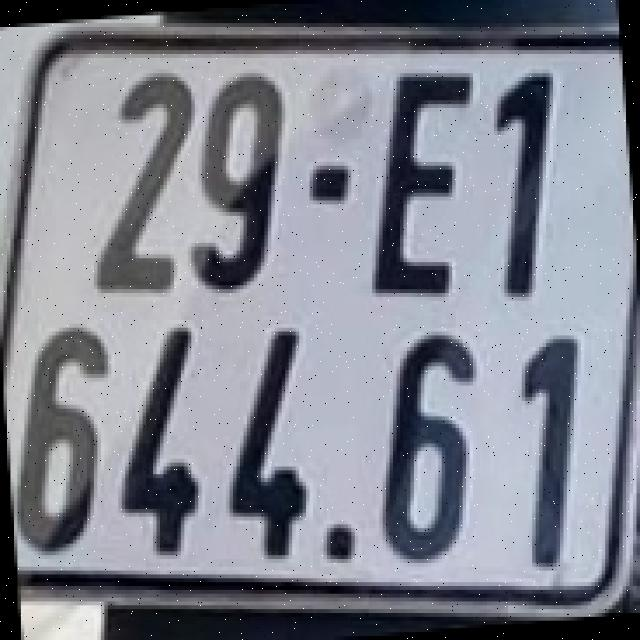1: (489, 66, 565, 300), (513, 328, 586, 570)
2: (90, 67, 192, 295)
4: (226, 322, 313, 561), (120, 322, 203, 553)
6: (379, 328, 480, 559), (15, 322, 110, 549)
9: (190, 69, 287, 293)
E: (369, 62, 473, 304)
